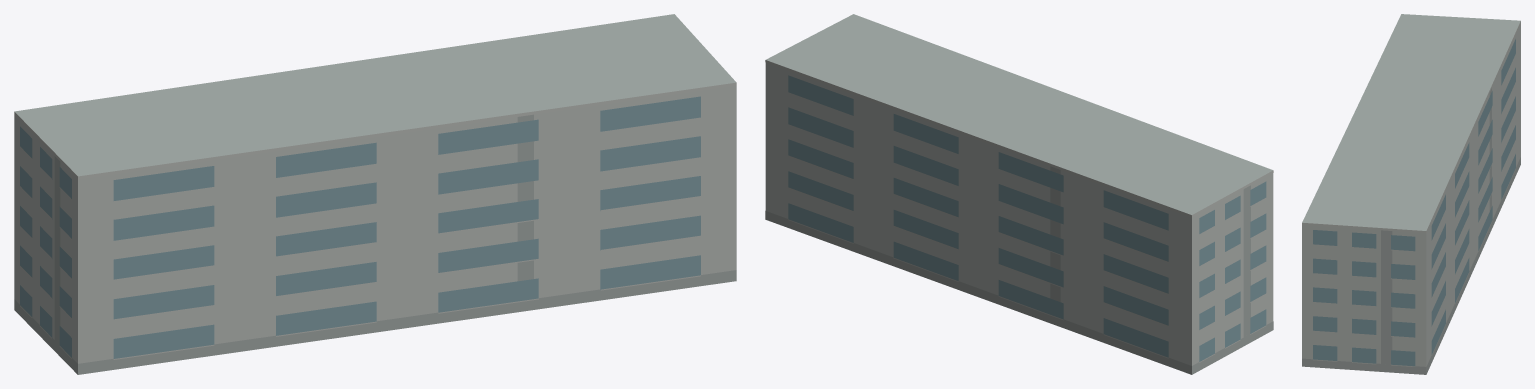
Rendered from residential-6d28d80b-0c1f-4d4d-b166-520ec3fea6c1.glb.
3 renders of one model, left to right at view 1: azimuth 30°, elevation 25°; view 2: azimuth 150°, elevation 25°; view 3: azimuth 270°, elevation 25°, orthographic. The views are drawn at different scales.
Parts seen in each view (by area): view 1: residential-6d28d80b-0c1f-4d4d-b166-520ec3fea6c1.tmp; view 2: residential-6d28d80b-0c1f-4d4d-b166-520ec3fea6c1.tmp; view 3: residential-6d28d80b-0c1f-4d4d-b166-520ec3fea6c1.tmp.
Boxes of the visible parts, x1,y1,x2,y2 form: residential-6d28d80b-0c1f-4d4d-b166-520ec3fea6c1.tmp: (14, 14, 736, 374); residential-6d28d80b-0c1f-4d4d-b166-520ec3fea6c1.tmp: (765, 14, 1273, 374); residential-6d28d80b-0c1f-4d4d-b166-520ec3fea6c1.tmp: (1302, 14, 1520, 374).
Bounding box in the file's own units: 49.36 × 15.25 × 21.04.
